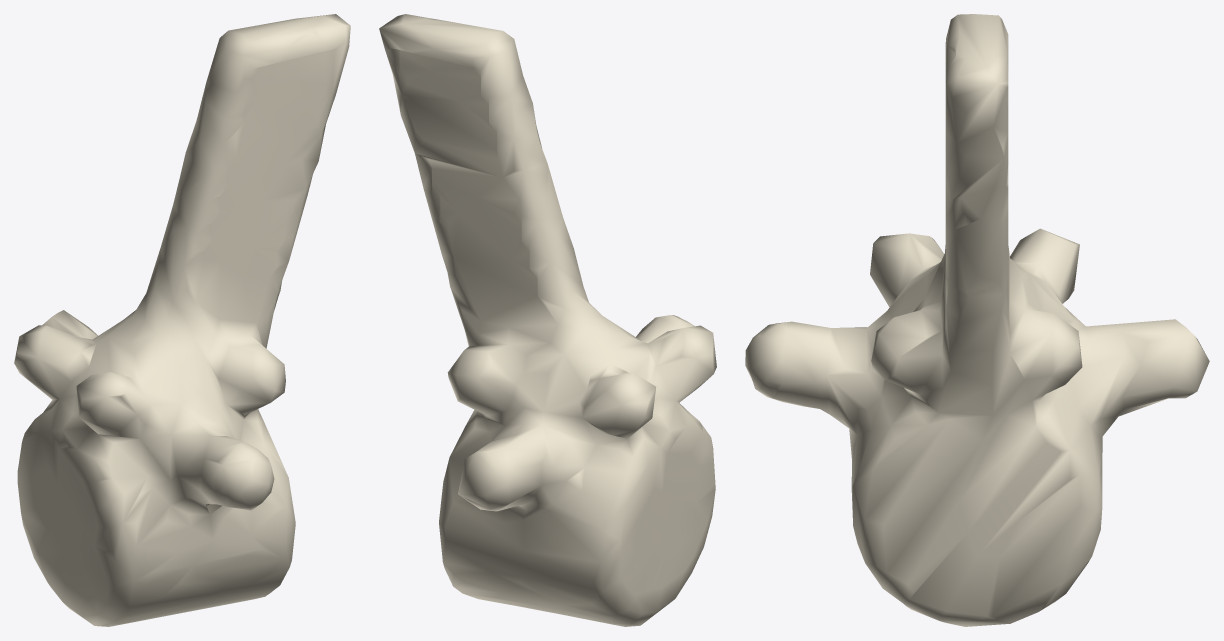
The model's file is thoracic_12.glb.
The picture shows the model from 3 angles, left to right: view 1: azimuth 30°, elevation 25°; view 2: azimuth 150°, elevation 25°; view 3: azimuth 270°, elevation 25°; orthographic projection. The views are drawn at different scales.
Parts seen in each view (by area): view 1: geometry_0; view 2: geometry_0; view 3: geometry_0.
Boxes of the visible parts, x1,y1,x2,y2 form: geometry_0: (14,14,350,626); geometry_0: (379,14,716,626); geometry_0: (745,14,1209,626).
Bounding box in the file's own units: 0.1456 × 0.2606 × 0.1782.
